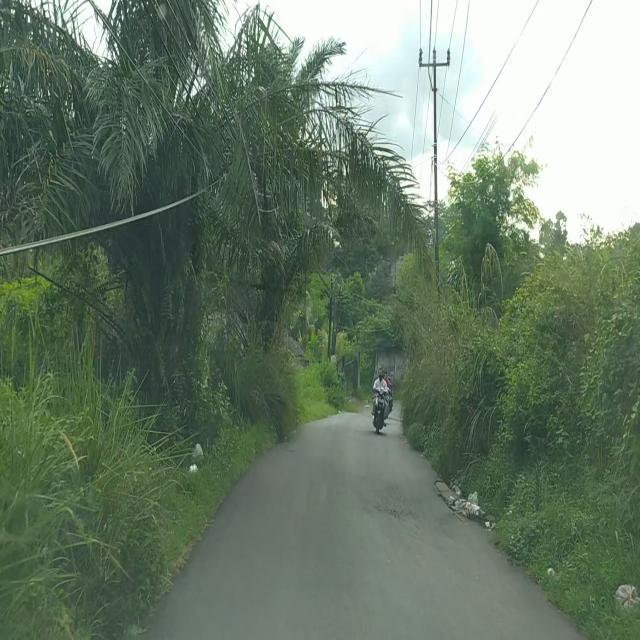Drain Hole: (367, 494, 432, 530)
